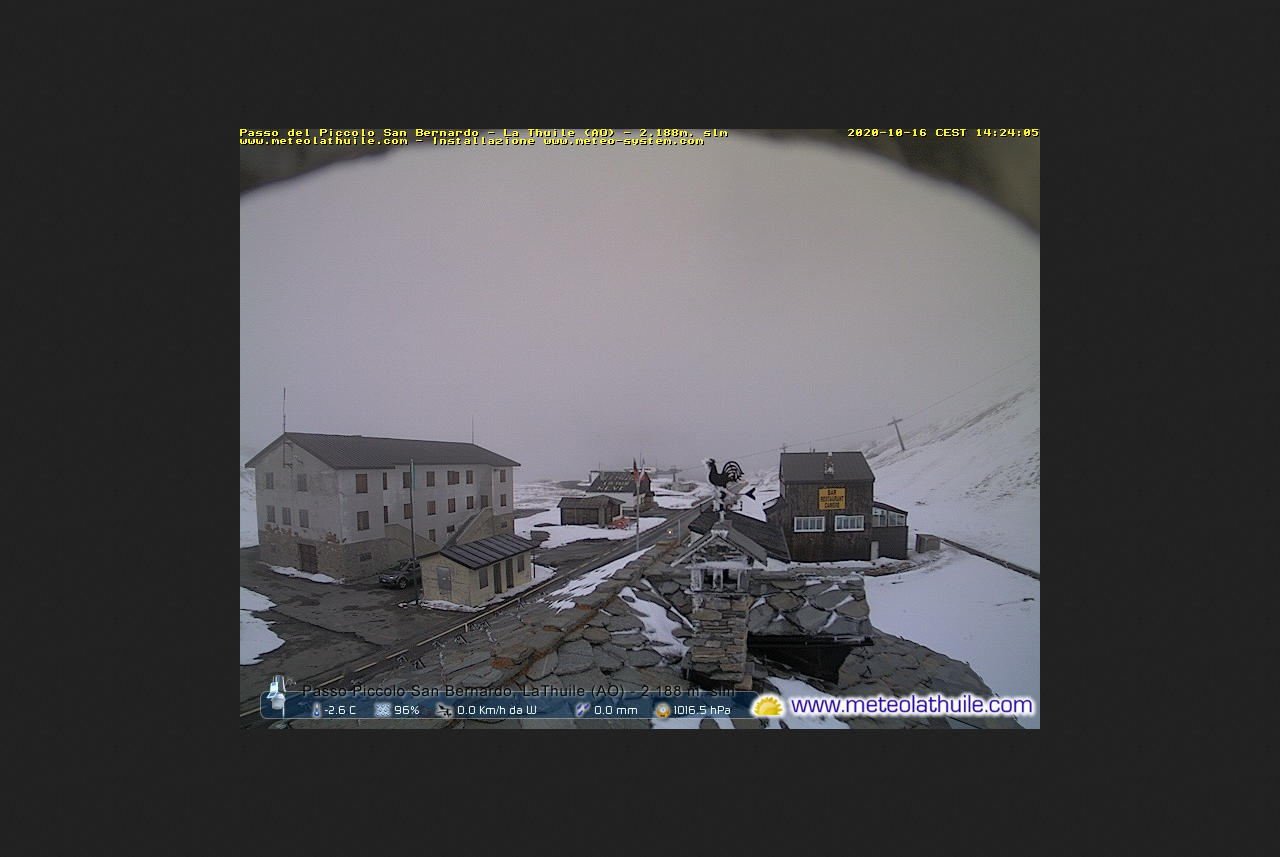no: (629, 457, 642, 492), (409, 457, 418, 495)
